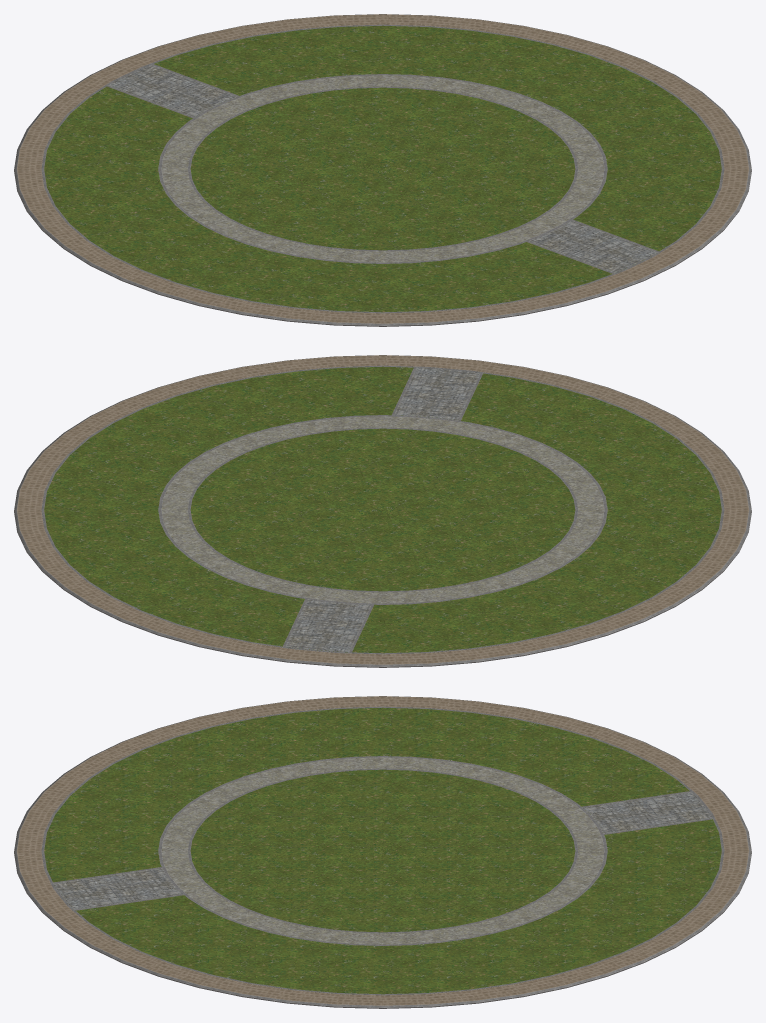
The model's file is t1_g14_1_jaune_square01.glb.
3 views of the same model, one above another, from view 1: azimuth 30°, elevation 25°; view 2: azimuth 150°, elevation 25°; view 3: azimuth 270°, elevation 25° (orthographic).
Parts seen in each view (by area): view 1: um_t1_g14_1_jaune_square01_model_t1_g14_1_jaune_square01_mod; view 2: um_t1_g14_1_jaune_square01_model_t1_g14_1_jaune_square01_mod; view 3: um_t1_g14_1_jaune_square01_model_t1_g14_1_jaune_square01_mod.
Part boxes in pixels (x1,y1,x2,y2): um_t1_g14_1_jaune_square01_model_t1_g14_1_jaune_square01_mod: (14,14,751,326); um_t1_g14_1_jaune_square01_model_t1_g14_1_jaune_square01_mod: (14,355,751,667); um_t1_g14_1_jaune_square01_model_t1_g14_1_jaune_square01_mod: (14,696,751,1008).
Size of the model in its own units: 81.06 by 0.25 by 81.06.
Materials: 6 (6 with a texture image).
